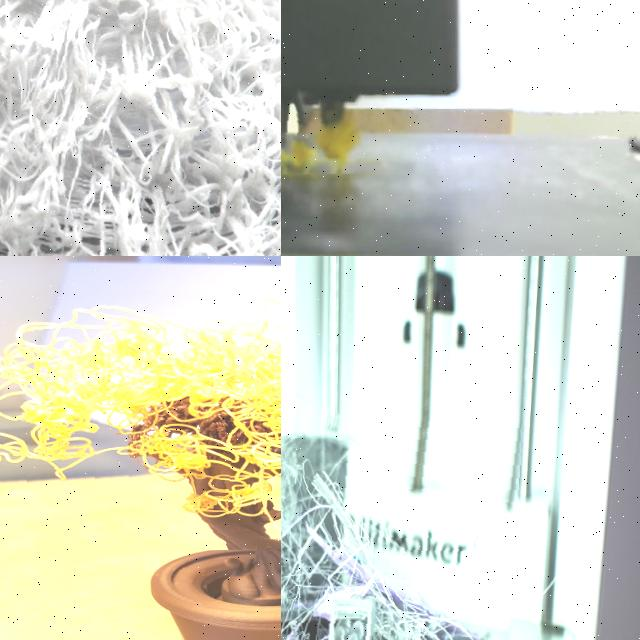spaghetti: (0, 276, 281, 554), (0, 0, 281, 256), (281, 430, 489, 640), (281, 114, 358, 174)
